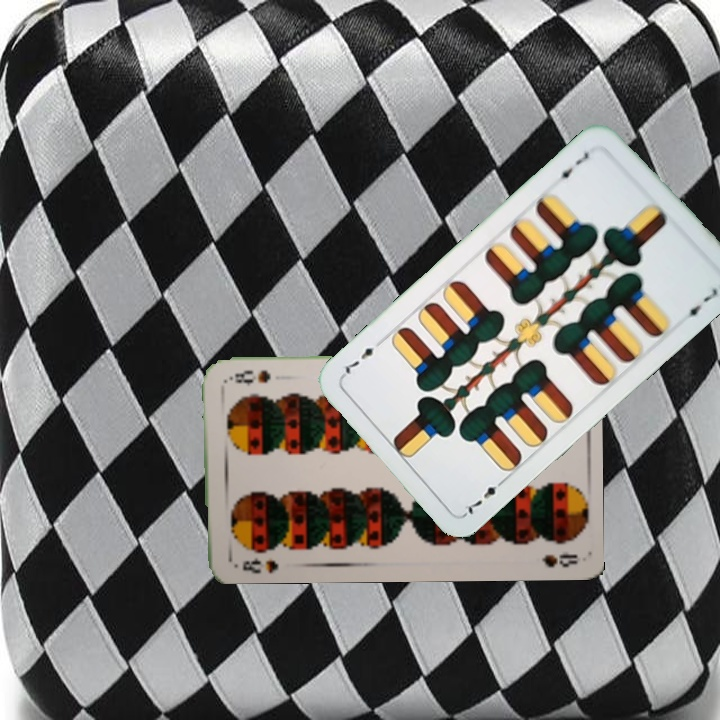E7: (460, 474, 509, 518), (551, 146, 593, 184)
S8: (239, 553, 281, 575)
